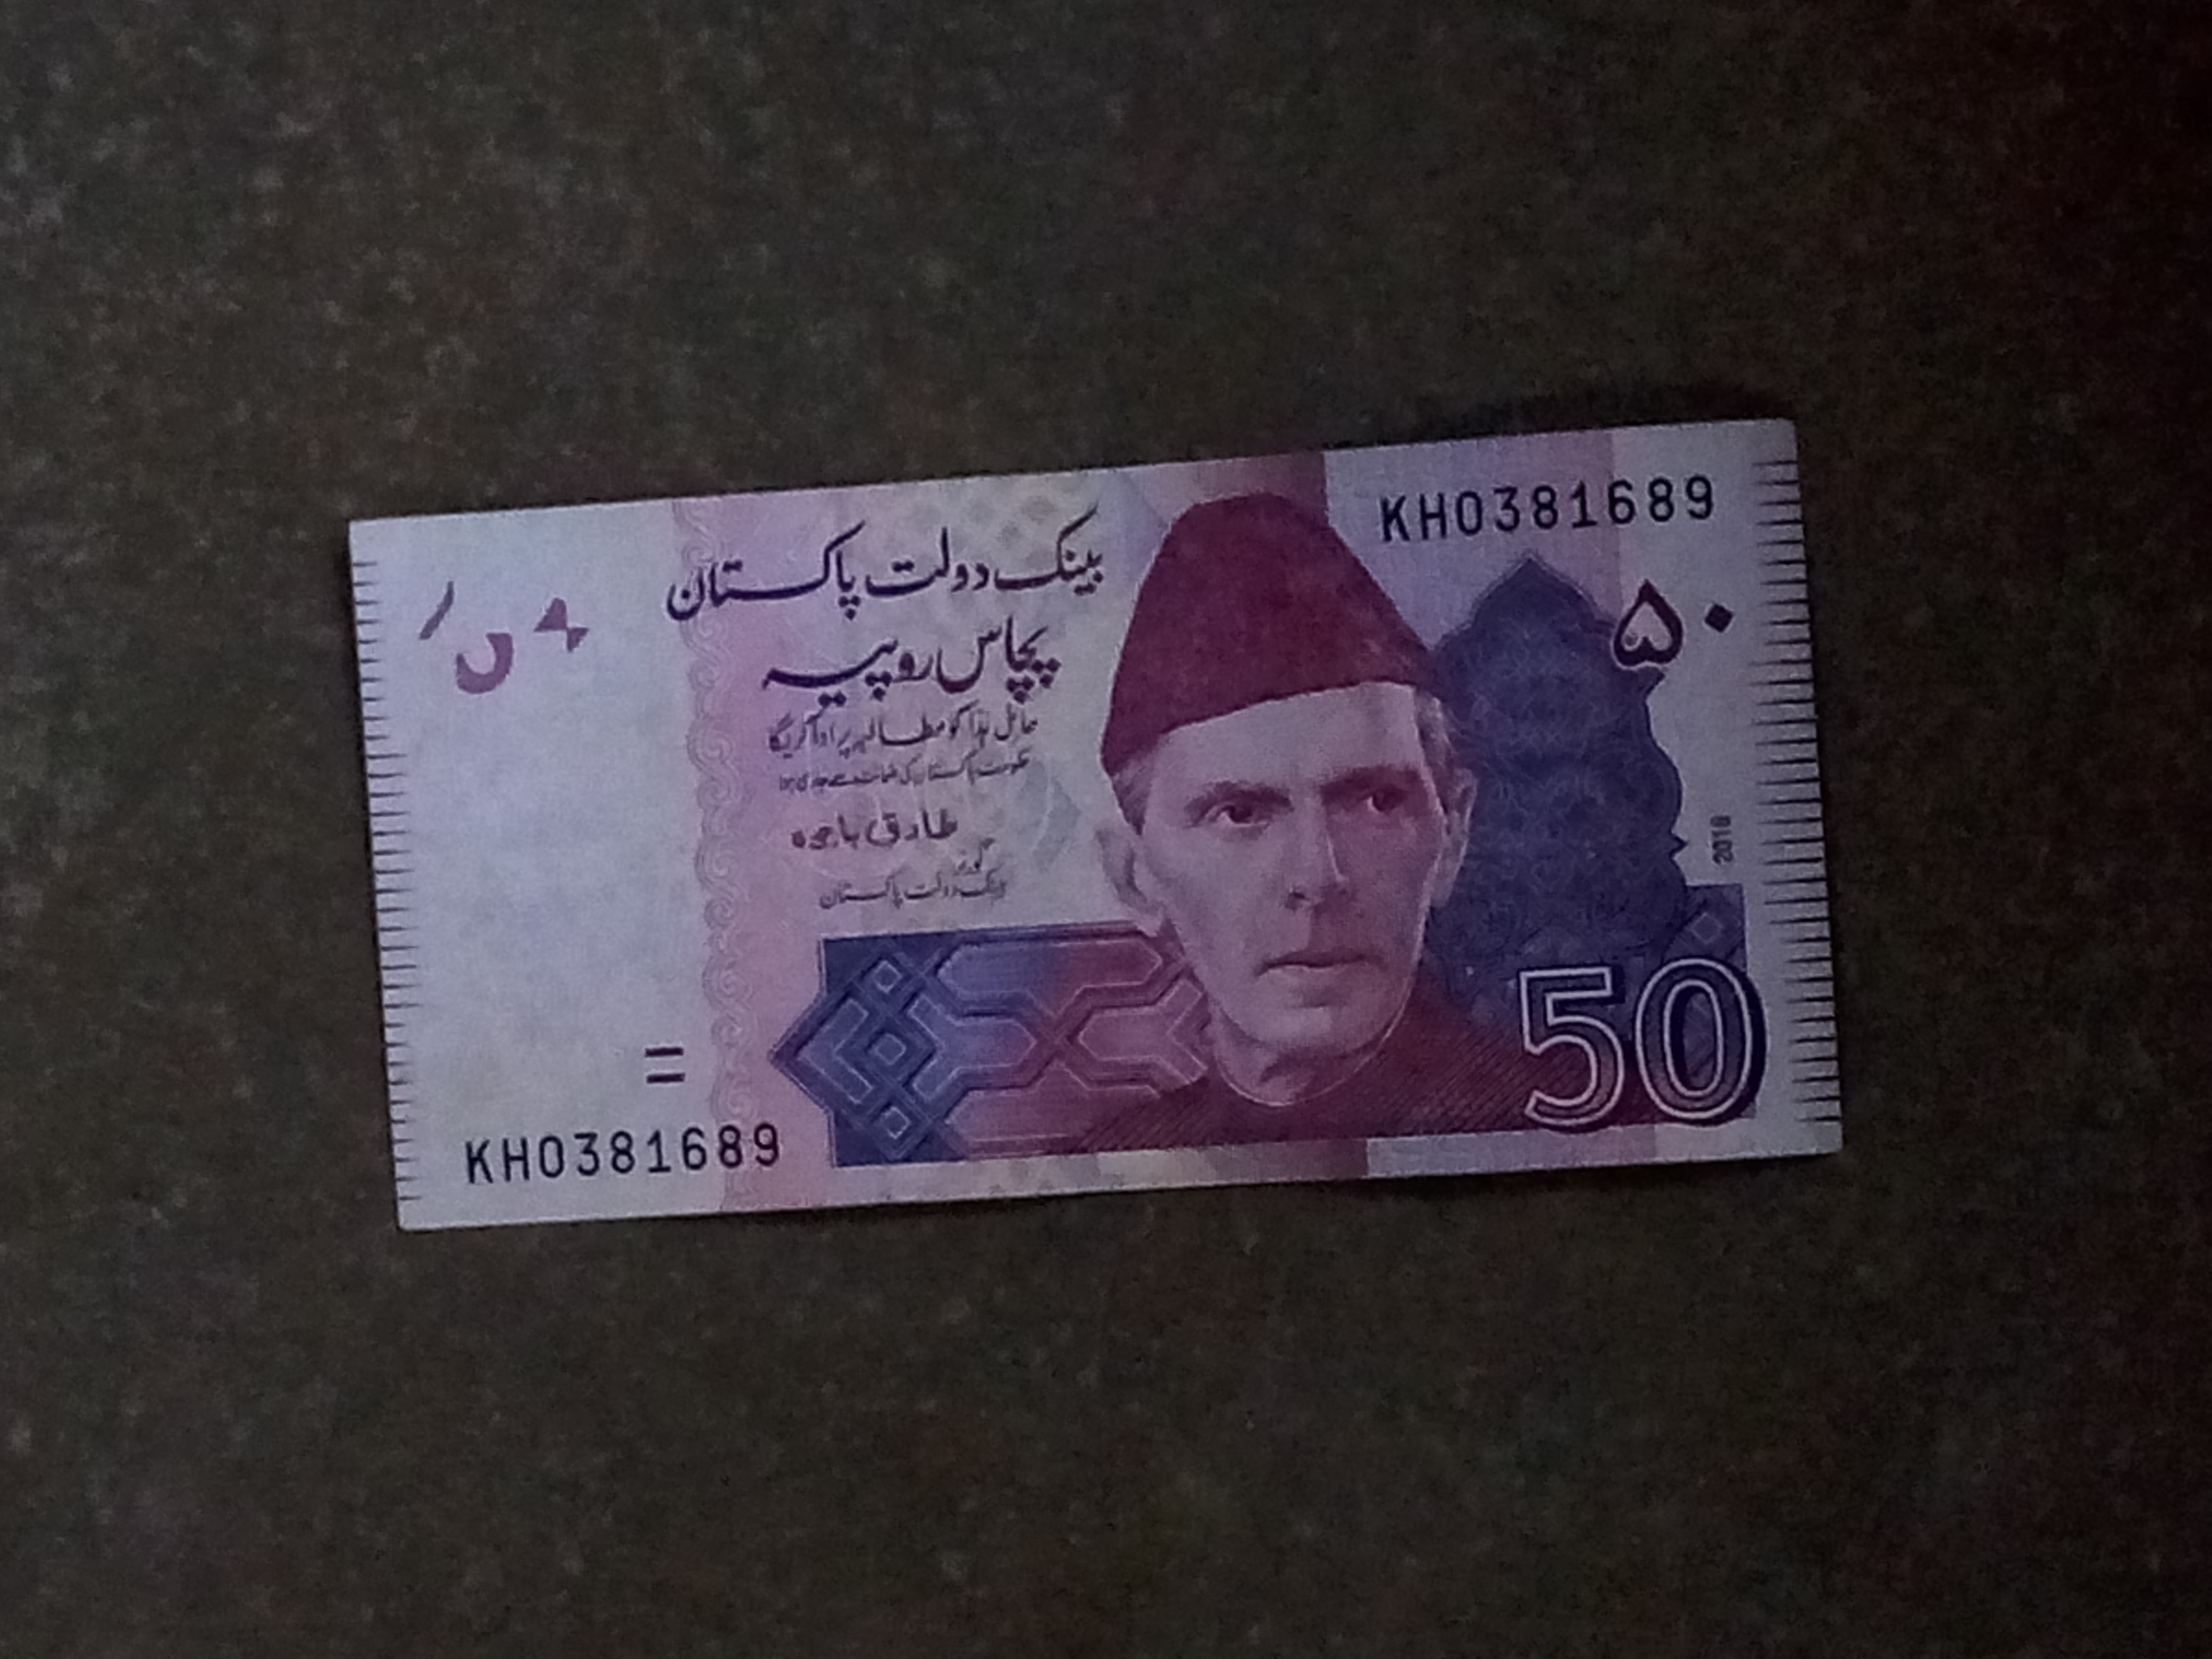50 rupee: (333, 371, 1886, 1345)
